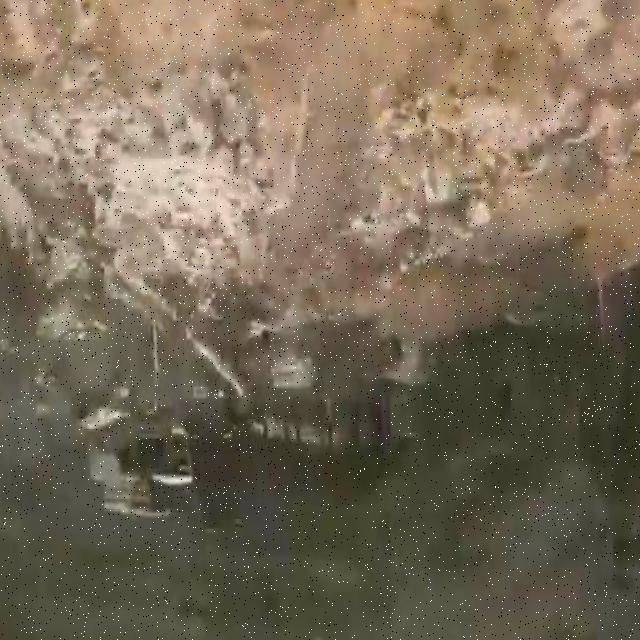MLRS: (83, 407, 215, 531)
